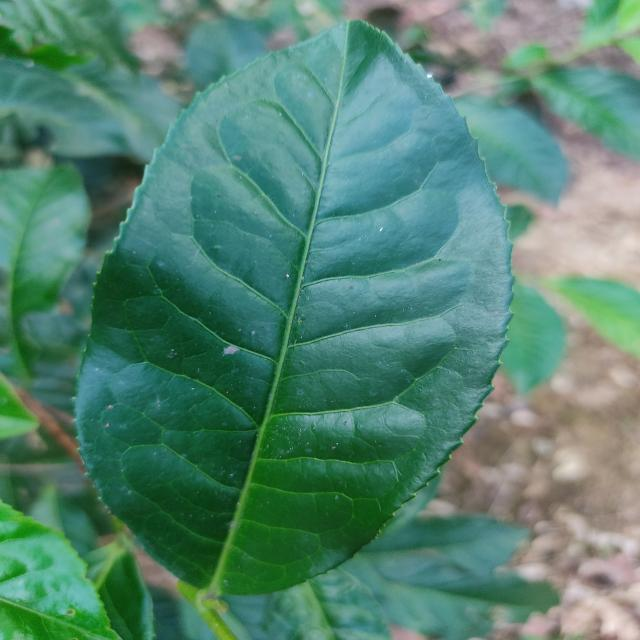Category D 7+ days, Not for Tea: (58, 13, 529, 621)
